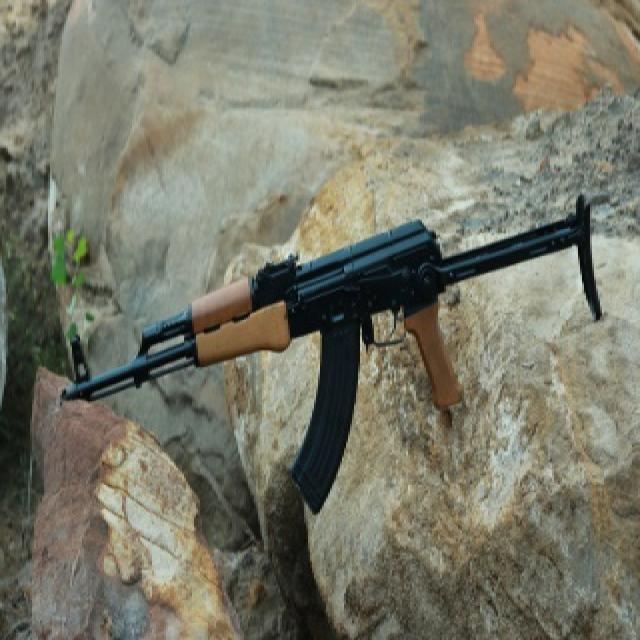rifle: (53, 186, 613, 516)
